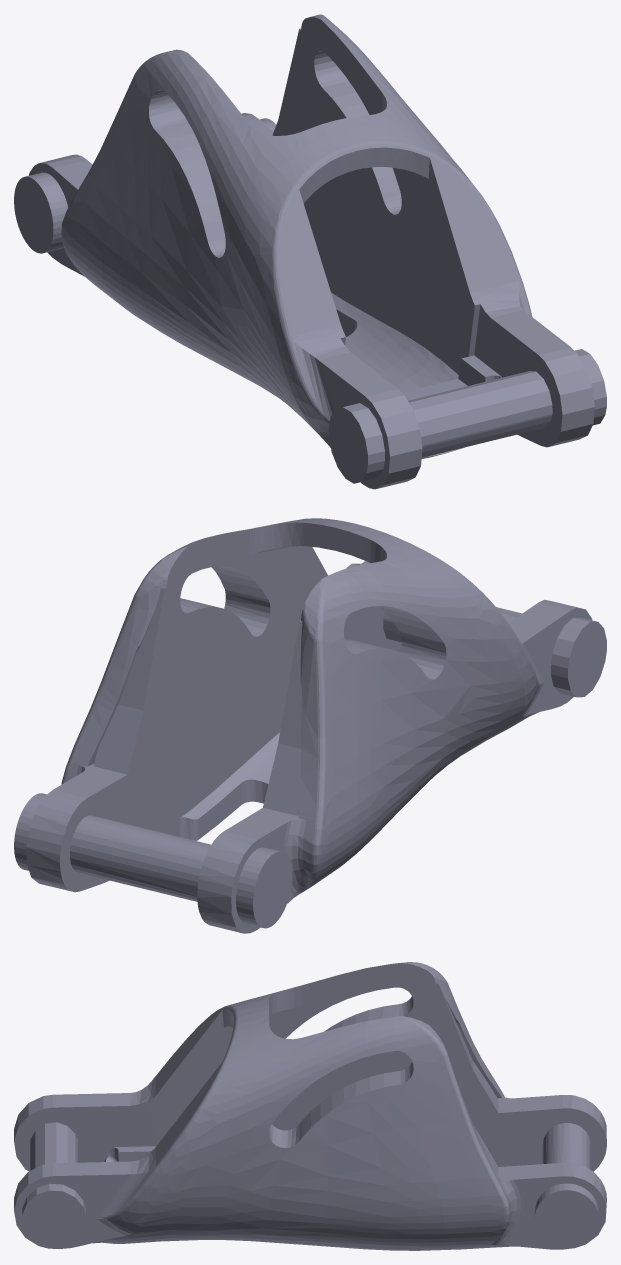
The model's file is hand2_link_5_1_visuals.obj.
3 renders of one model, top to bottom at view 1: azimuth 30°, elevation 25°; view 2: azimuth 150°, elevation 25°; view 3: azimuth 270°, elevation 25°, orthographic. The views are drawn at different scales.
Bounding box in the file's own units: 0.0151 × 0.0166 × 0.0369.
